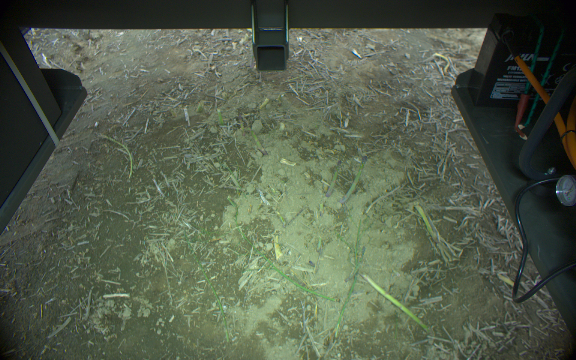aspa: (354, 271, 430, 334), (412, 200, 441, 248), (343, 154, 370, 203), (239, 121, 269, 157), (322, 159, 341, 198)
